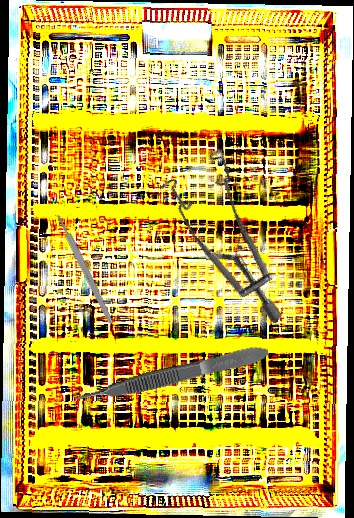Scalpel Handle: (55, 213, 115, 326)
Speculum: (132, 134, 339, 325)
Tissue Forceps: (71, 342, 271, 408)
